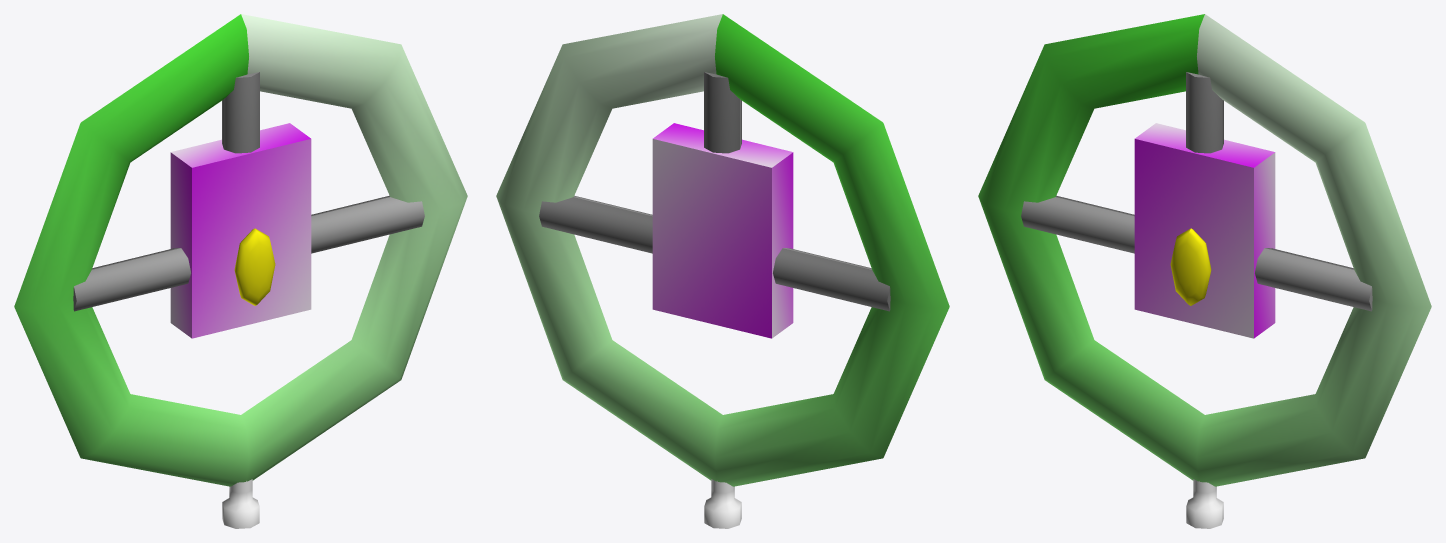
The model's file is Enemy_Ship_B.obj.
3 views of the same model, side by side, from view 1: azimuth 30°, elevation 25°; view 2: azimuth 150°, elevation 25°; view 3: azimuth 330°, elevation 25° (orthographic).
Visible parts, largest first — view 1: polymsh; view 2: polymsh; view 3: polymsh.
Boxes of the visible parts, left/top/right/bottom form: polymsh: left=14, top=14, right=467, bottom=528; polymsh: left=496, top=14, right=949, bottom=528; polymsh: left=978, top=14, right=1431, bottom=528.
Size of the model in its own units: 8.88 by 9.49 by 1.05.
